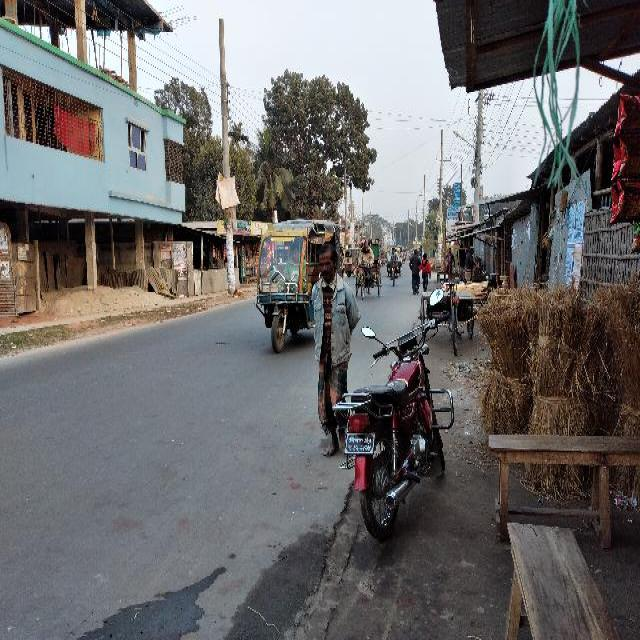10: (326, 289, 470, 546)
13: (352, 235, 383, 301)
Car: (248, 218, 350, 358)
Motorcycle: (388, 250, 398, 281)
